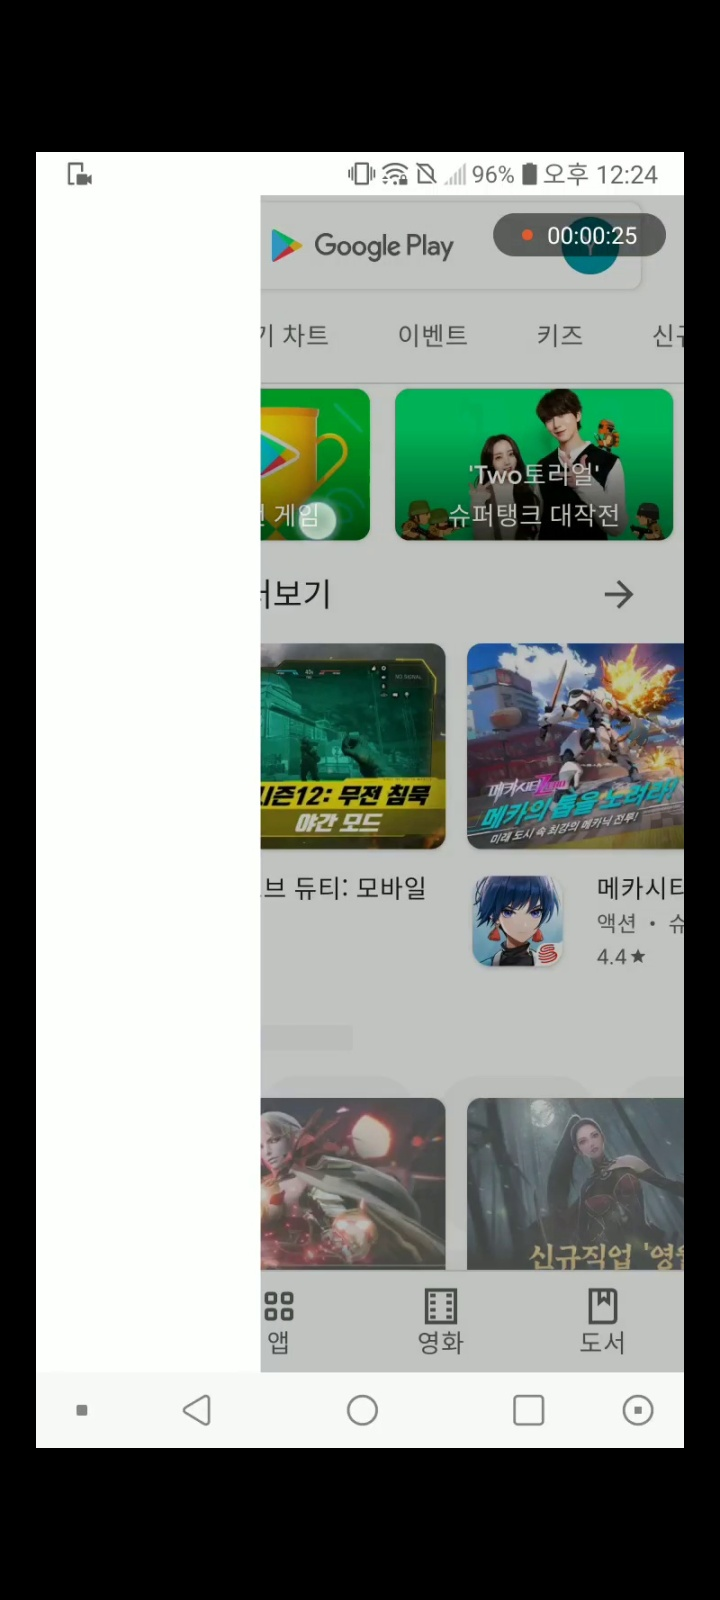Cursor: (295, 500, 340, 545)
